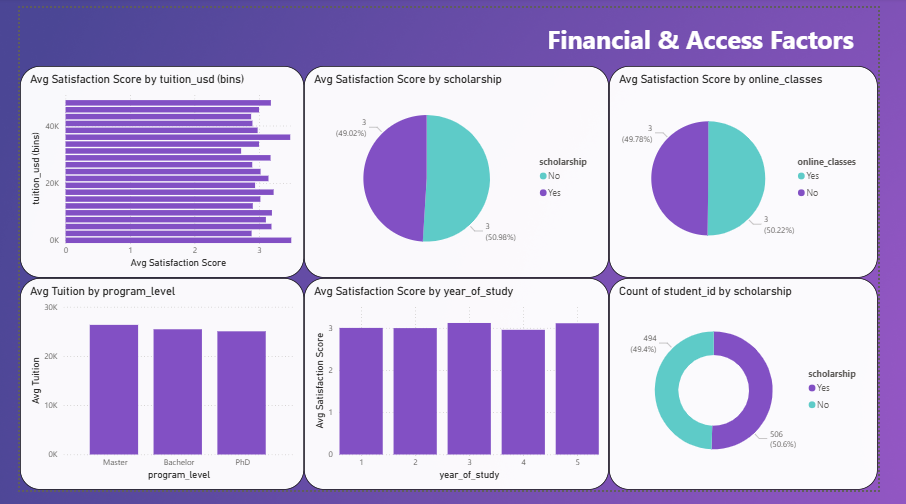

What the dashboard file says about the page in this screenshot:
{"tool":"powerbi","page":{"name":"Page 3","canvas":[1280,720],"ordinal":2},"visuals":[{"type":"barChart","fields":{"Category":["data mahasiswa.tuition_usd (bins)"],"Y":["data mahasiswa.Avg Satisfaction Score"]},"box":[0,86.6,423.9,316.4],"z":0},{"type":"pieChart","fields":{"Category":["data mahasiswa.scholarship"],"Y":["data mahasiswa.Avg Satisfaction Score"]},"box":[423.9,86.6,455.2,316.4],"z":1000},{"type":"pieChart","fields":{"Category":["data mahasiswa.online_classes"],"Y":["data mahasiswa.Avg Satisfaction Score"]},"box":[879.1,86.6,401.5,316.4],"z":2000},{"type":"columnChart","fields":{"Category":["data mahasiswa.program_level"],"Y":["data mahasiswa.Avg Tuition"]},"box":[0,403,423.9,316.4],"z":3000},{"type":"columnChart","fields":{"Category":["data mahasiswa.year_of_study"],"Y":["data mahasiswa.Avg Satisfaction Score"]},"box":[423.9,403,455.2,316.4],"z":4000},{"type":"donutChart","fields":{"Category":["data mahasiswa.scholarship"],"Y":["CountNonNull(data mahasiswa.student_id)"]},"box":[879.1,403,401.5,316.4],"z":5000},{"type":"textbox","box":[782.1,16.4,498.5,86.6],"z":6000}]}

Visuals, with their boxes in screenshot pixels (x1, y1, x2, y2), scaled from the page's 1280x720 canvas onto the 906x504 screenshot:
barChart - data mahasiswa.tuition_usd (bins) x data mahasiswa.Avg Satisfaction Score: <bbox>0, 61, 300, 282</bbox>
pieChart - data mahasiswa.scholarship x data mahasiswa.Avg Satisfaction Score: <bbox>300, 61, 622, 282</bbox>
pieChart - data mahasiswa.online_classes x data mahasiswa.Avg Satisfaction Score: <bbox>622, 61, 905, 282</bbox>
columnChart - data mahasiswa.program_level x data mahasiswa.Avg Tuition: <bbox>0, 282, 300, 503</bbox>
columnChart - data mahasiswa.year_of_study x data mahasiswa.Avg Satisfaction Score: <bbox>300, 282, 622, 503</bbox>
donutChart - data mahasiswa.scholarship x CountNonNull(data mahasiswa.student_id): <bbox>622, 282, 905, 503</bbox>
textbox: <bbox>554, 11, 905, 72</bbox>
